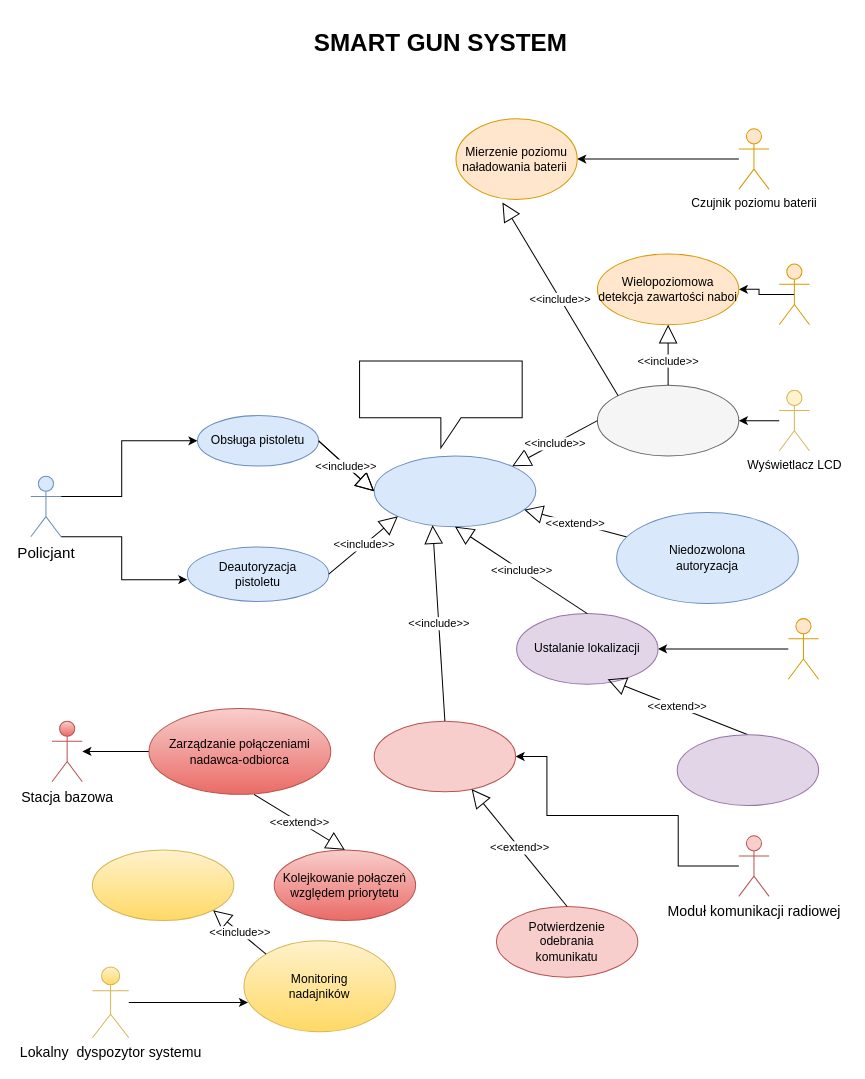
Image size: 865x1079. Some labels were removed from this diagram. Here are the shapes that lost their labels. From the top down, the box of each, then its label:
(778, 263, 810, 325): Czujnik magazynku
(359, 360, 522, 448): AUTORYZACJA TO NIE ODBLOKOWANIE PISTOLETU
(596, 384, 739, 456): Wyświetlanie ilości pozostałych naboi oraz stanu baterii
(373, 455, 536, 527): Autoryzacja pistoletu
(787, 618, 819, 679): Moduł GPS
(373, 720, 516, 792): Komunikacja radiowa z dyspozytorem
(676, 734, 819, 805): Aktualizuj okresowo
(91, 849, 234, 921): Delegacja wsparcia
